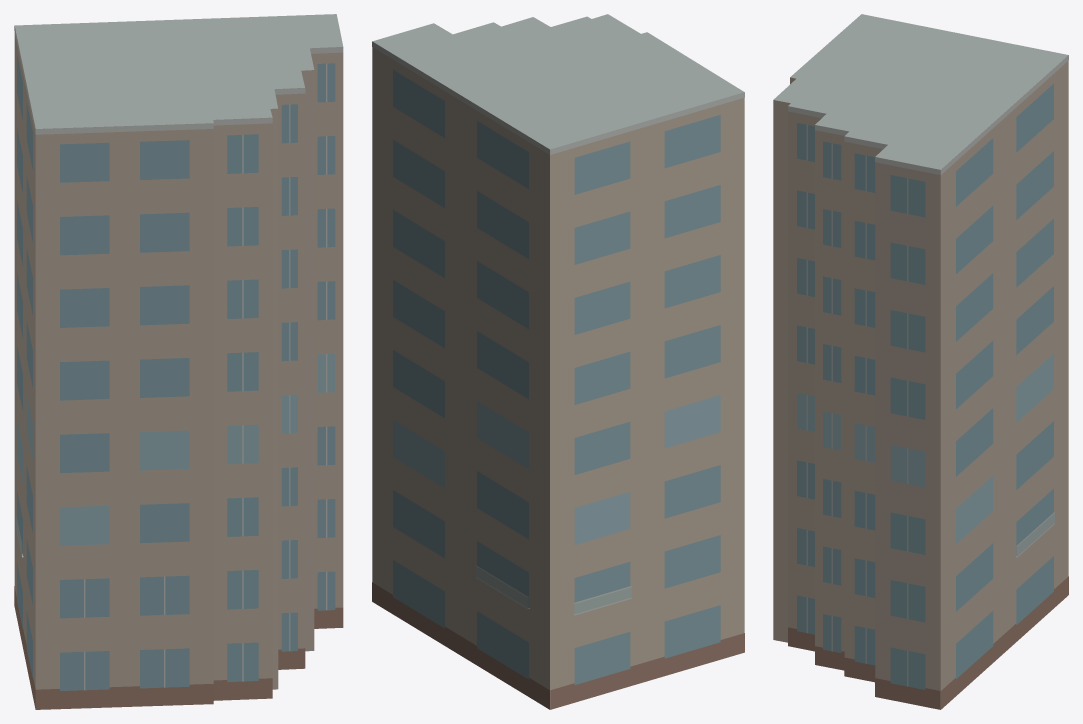
The model's file is survey-upis-32632946.glb.
3 renders of one model, left to right at view 1: azimuth 30°, elevation 25°; view 2: azimuth 150°, elevation 25°; view 3: azimuth 270°, elevation 25°, orthographic. The views are drawn at different scales.
Parts seen in each view (by area): view 1: survey-upis-32632946.tmp; view 2: survey-upis-32632946.tmp; view 3: survey-upis-32632946.tmp.
Boxes of the visible parts, x1,y1,x2,y2 form: survey-upis-32632946.tmp: (14, 14, 343, 709); survey-upis-32632946.tmp: (372, 14, 744, 709); survey-upis-32632946.tmp: (773, 14, 1068, 709).
Size of the model in its own units: 15.36 by 24.8 by 12.31.
